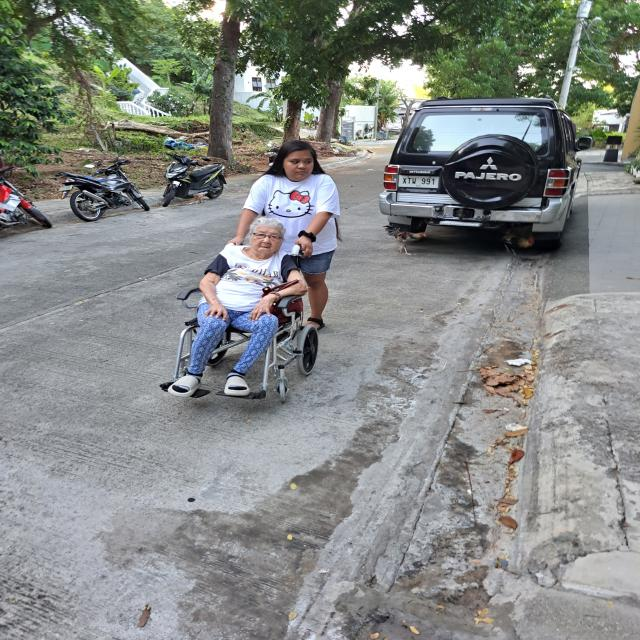wheelchairs: (170, 244, 324, 405)
